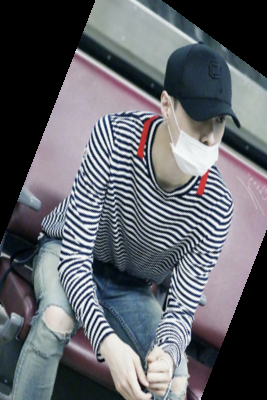mask_weared_incorrect: (156, 42, 248, 183)
